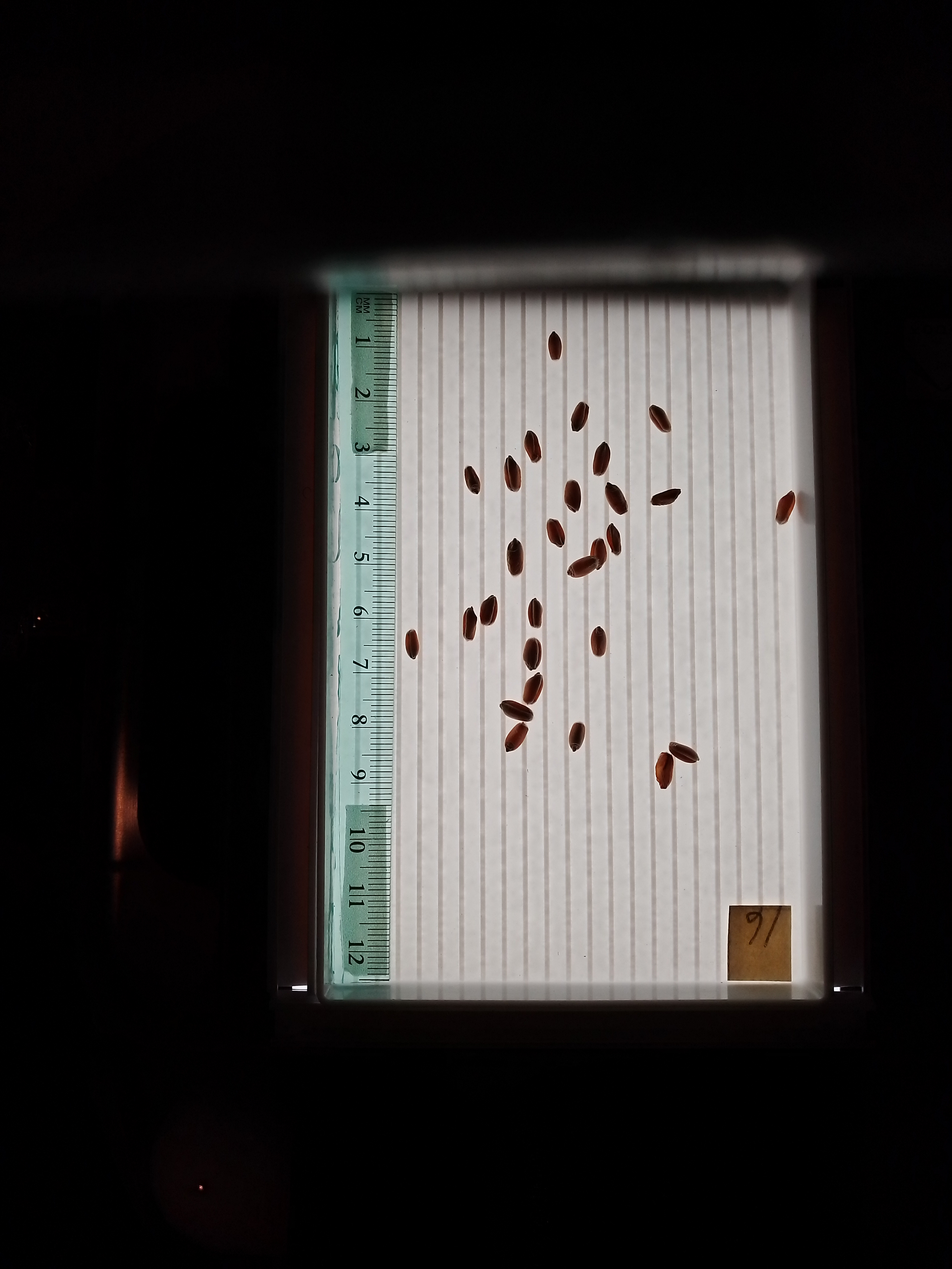seed mask: (605, 483, 628, 515), (655, 753, 674, 789), (501, 700, 533, 721), (568, 556, 598, 578), (776, 492, 796, 524), (507, 539, 524, 575), (523, 638, 542, 670), (523, 674, 543, 704), (506, 724, 527, 752), (505, 457, 521, 492), (670, 743, 698, 763), (524, 431, 542, 462), (651, 488, 680, 507), (650, 406, 671, 432), (571, 402, 589, 432), (480, 596, 498, 626), (593, 443, 609, 476), (565, 480, 581, 512), (547, 519, 565, 547), (606, 525, 622, 555), (591, 538, 607, 567), (591, 627, 607, 656), (569, 723, 585, 752), (405, 630, 420, 659), (463, 607, 476, 639), (528, 599, 542, 627), (465, 467, 480, 493), (548, 333, 562, 359)
